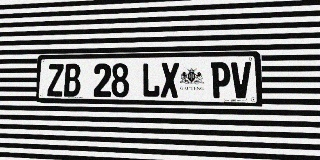2: (94, 63, 111, 97)
8: (111, 63, 129, 97)
B: (64, 64, 81, 97)
L: (142, 63, 160, 98)
P: (211, 62, 230, 98)
V: (231, 62, 251, 98)
X: (161, 62, 179, 98)
Z: (47, 64, 64, 97)
